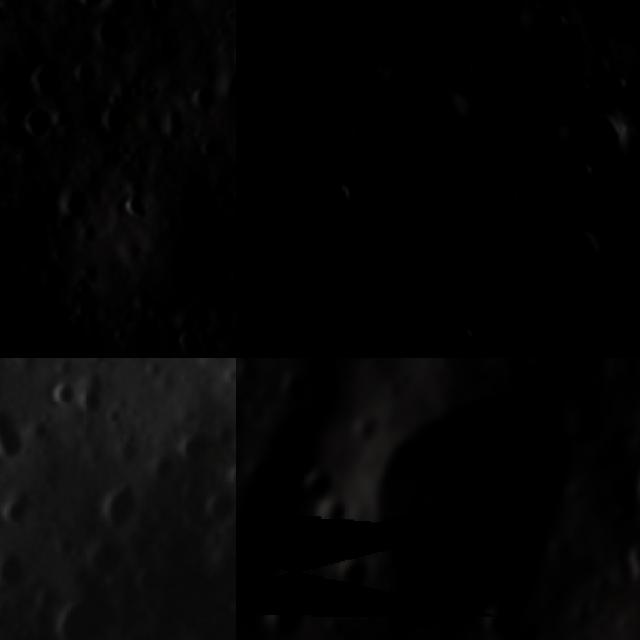crater: (356, 388, 607, 634), (41, 577, 129, 640), (0, 394, 48, 482), (13, 41, 78, 105), (86, 87, 151, 151), (78, 524, 140, 588), (96, 470, 156, 535), (582, 106, 633, 182), (160, 414, 223, 475), (81, 7, 143, 65), (44, 168, 102, 226), (11, 96, 70, 152), (0, 536, 42, 601), (0, 477, 45, 534), (323, 554, 372, 605), (193, 479, 236, 536), (37, 364, 88, 411), (176, 72, 228, 118), (64, 52, 113, 100), (67, 376, 116, 424), (274, 363, 326, 408), (264, 584, 305, 640), (112, 182, 158, 228), (23, 570, 67, 618), (422, 92, 466, 136), (558, 220, 603, 263), (302, 462, 339, 506), (132, 0, 187, 29), (355, 61, 394, 99), (609, 487, 640, 531), (318, 182, 360, 213), (486, 605, 523, 640), (448, 314, 479, 352), (619, 543, 640, 598), (61, 0, 119, 19), (584, 273, 624, 299), (236, 599, 259, 640), (218, 449, 236, 500), (479, 94, 505, 125), (546, 12, 575, 34)
